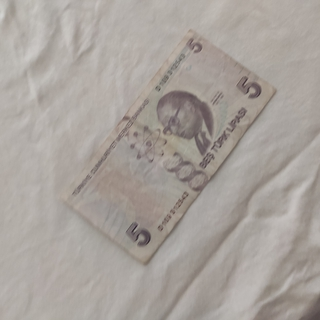5TLBack: (58, 26, 278, 264)
